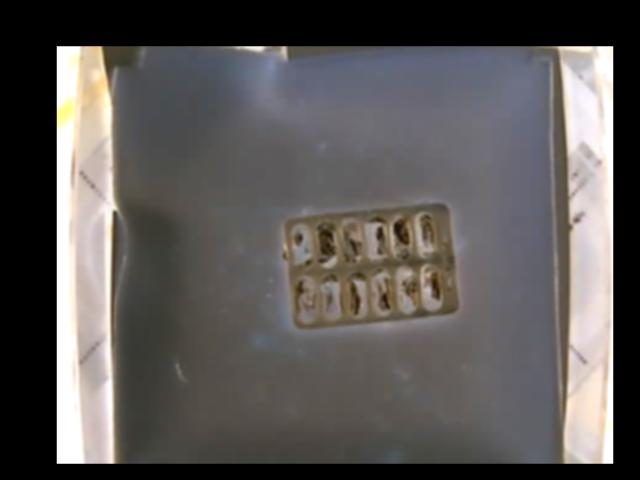Medicine: (285, 201, 458, 328)
